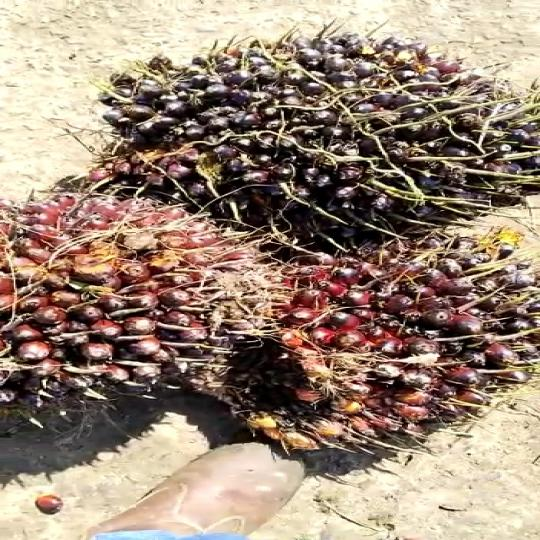kurang masak: (99, 14, 540, 251), (195, 218, 538, 472), (0, 174, 301, 416)
